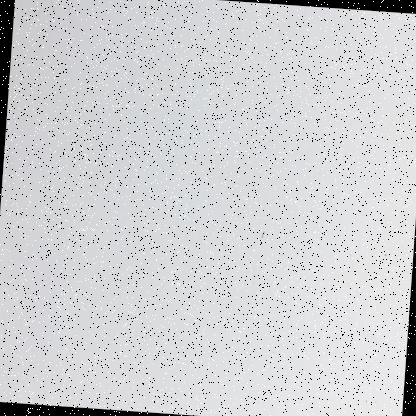Nocrack: (0, 12, 412, 415)
